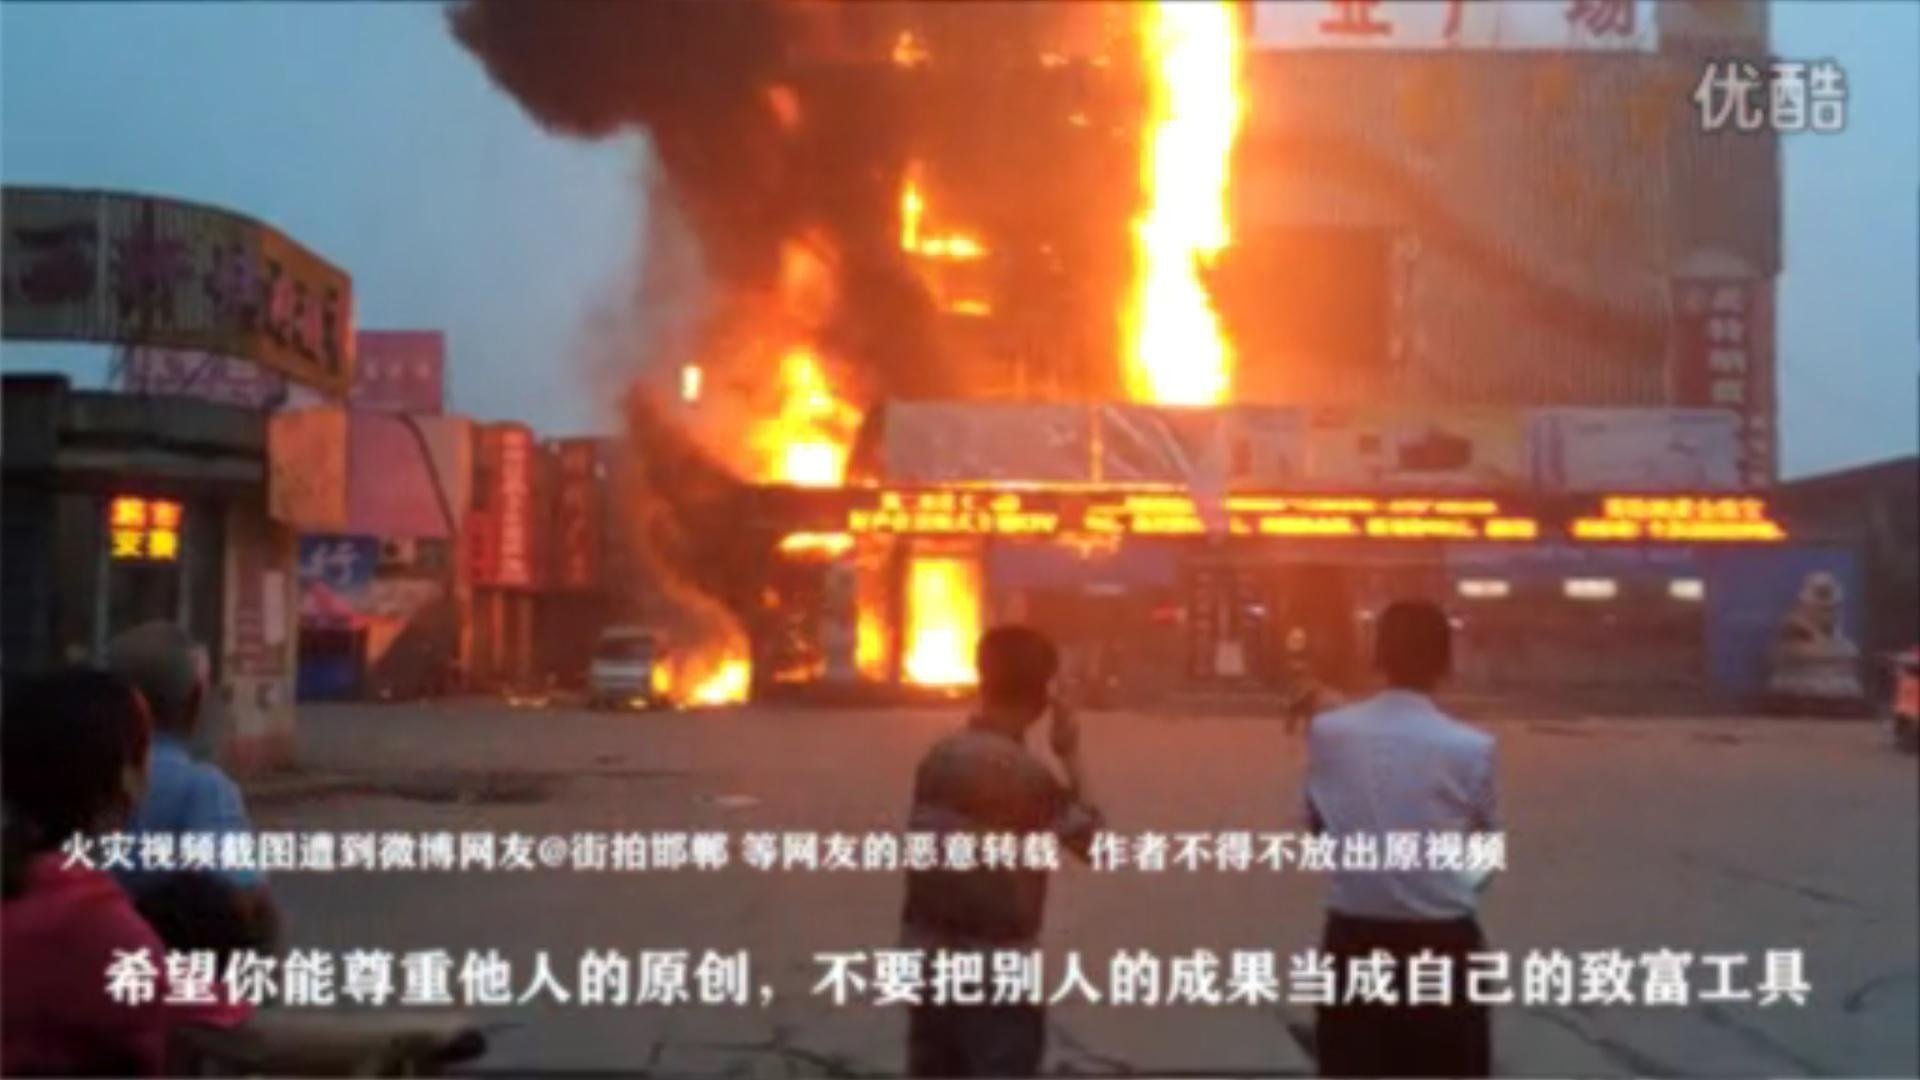fire: (1114, 4, 1249, 411), (752, 343, 857, 487), (898, 560, 975, 688), (895, 173, 978, 266), (649, 640, 754, 711)
